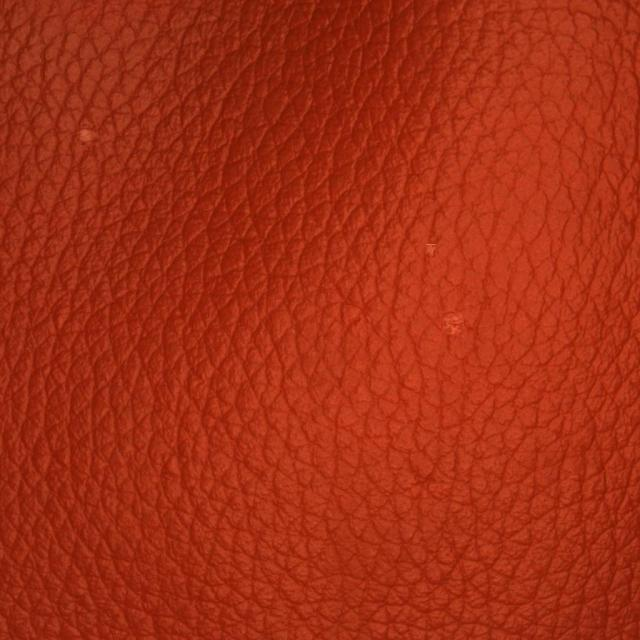Bacterial Injury: (25, 75, 146, 194)
